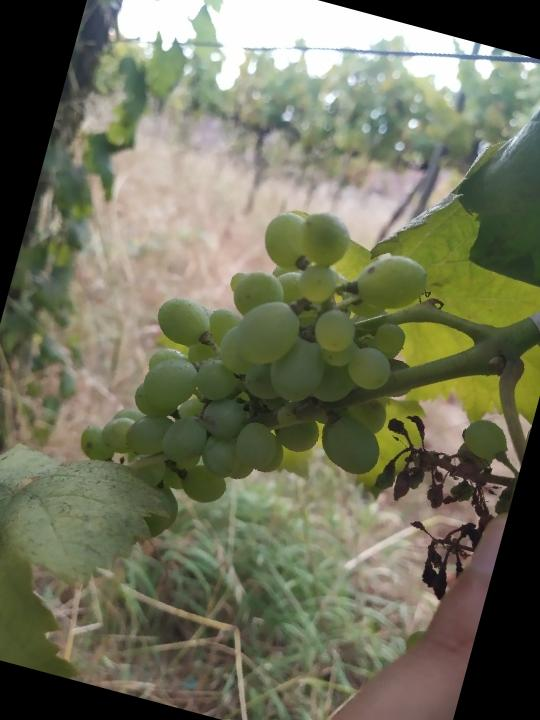grape: (68, 164, 442, 555)
